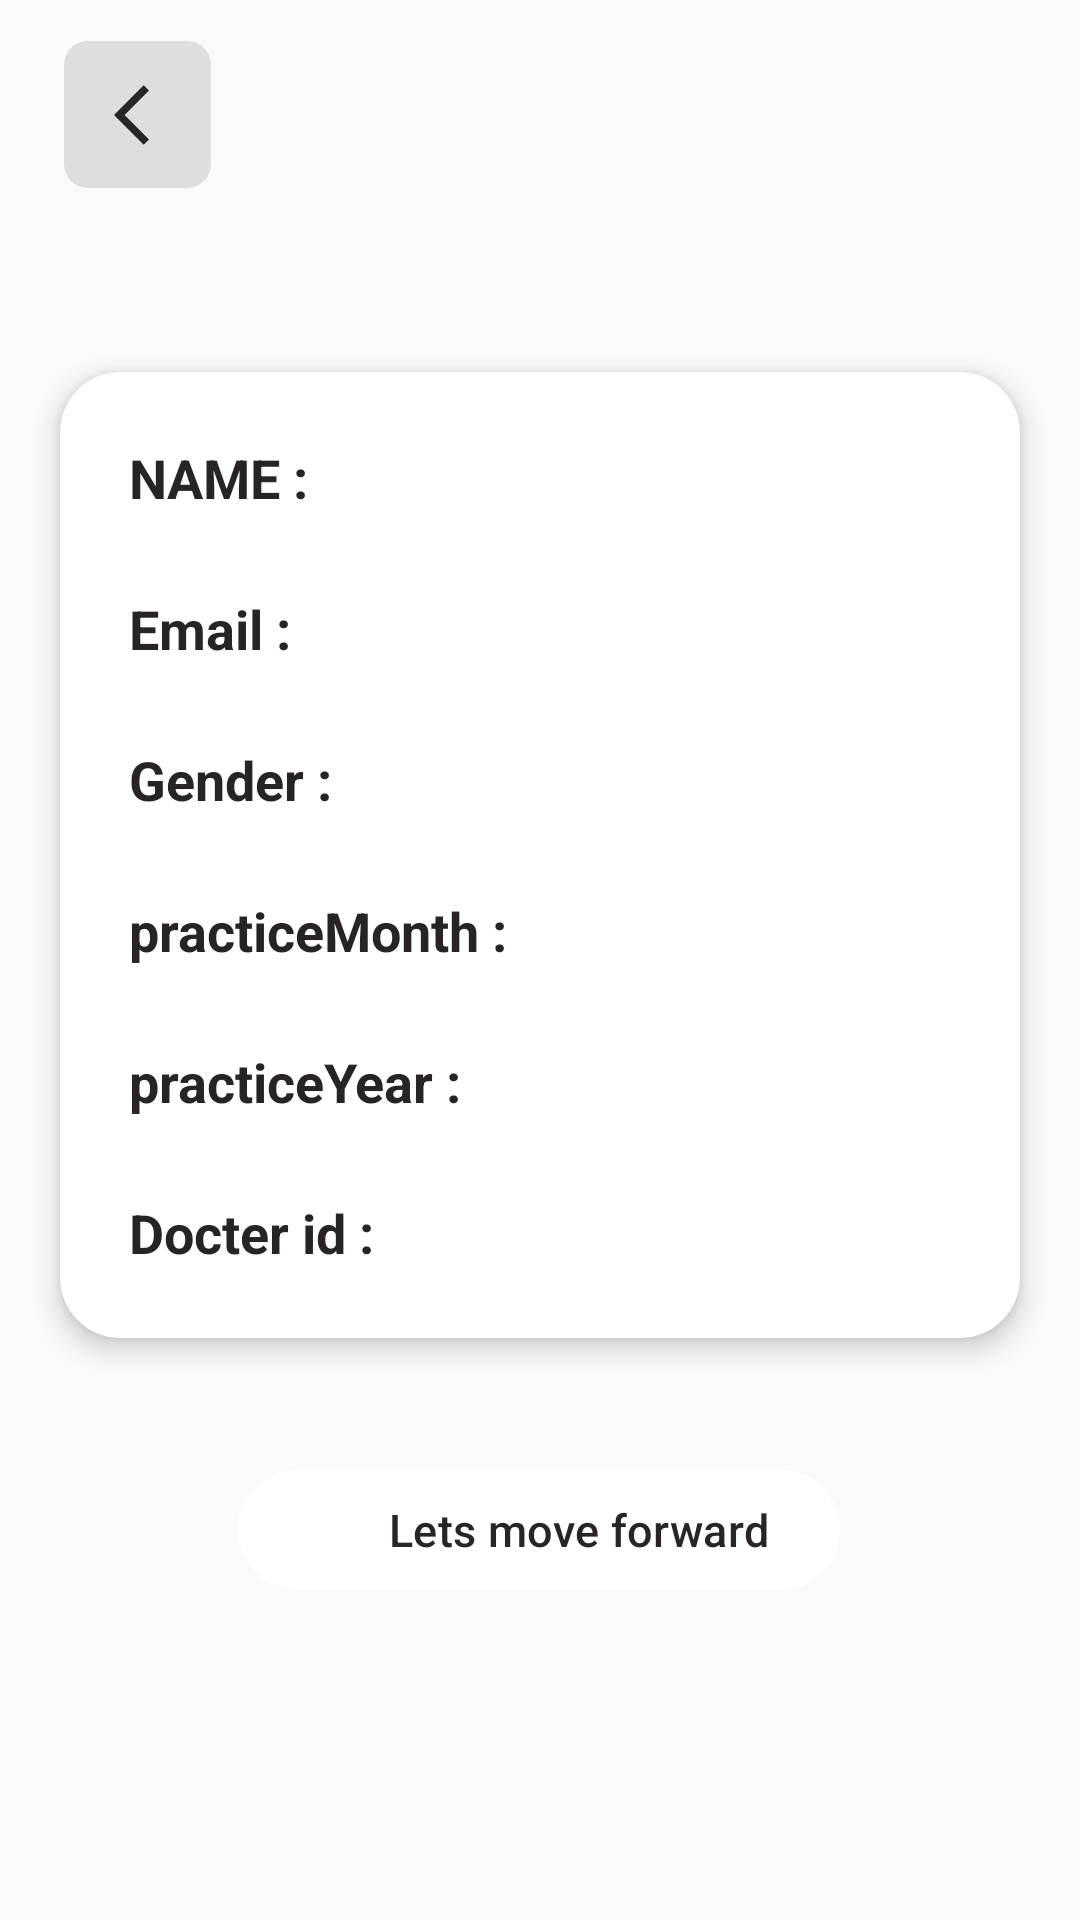

Point at icon controls on the screen. Image size 1080×1920, points as point (x, y).
arrow back: point (137, 114)
